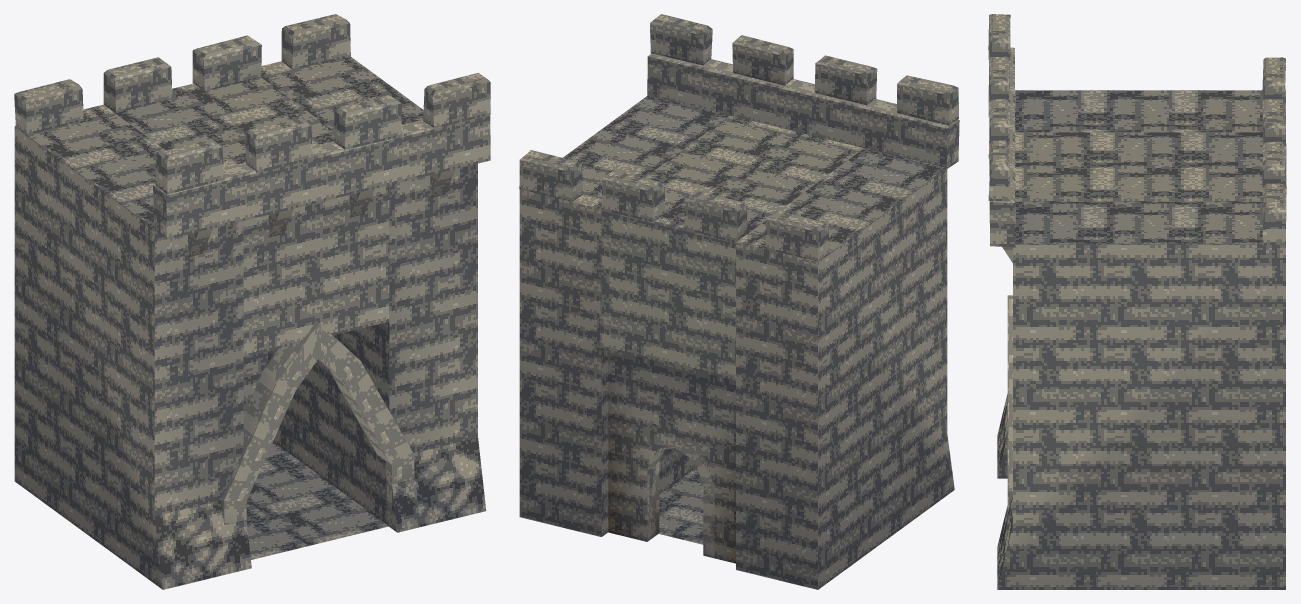
The model's file is cst.gatehouse.glb.
The picture shows the model from 3 angles, left to right: view 1: azimuth 30°, elevation 25°; view 2: azimuth 150°, elevation 25°; view 3: azimuth 270°, elevation 25°; orthographic projection. The views are drawn at different scales.
Parts seen in each view (by area): view 1: kit_block, kit_top, kit_detail, kit_shell_passage_floor; view 2: kit_block, kit_top, kit_shell_passage_floor, kit_detail; view 3: kit_block, kit_top, kit_detail.
Part boxes in pixels (x1=…): kit_block: x1=14, y1=56, x2=486, y2=589; kit_top: x1=14, y1=14, x2=490, y2=239; kit_detail: x1=188, y1=169, x2=455, y2=528; kit_shell_passage_floor: x1=246, y1=441, x2=388, y2=559; kit_block: x1=519, y1=95, x2=954, y2=589; kit_top: x1=519, y1=14, x2=959, y2=261; kit_shell_passage_floor: x1=658, y1=467, x2=703, y2=544; kit_detail: x1=646, y1=439, x2=714, y2=558; kit_block: x1=997, y1=90, x2=1285, y2=589; kit_top: x1=988, y1=14, x2=1286, y2=246; kit_detail: x1=1002, y1=246, x2=1012, y2=513.
Size of the model in its own units: 8.04 by 10.3 by 6.56.
Materials: 5 (5 with a texture image).
